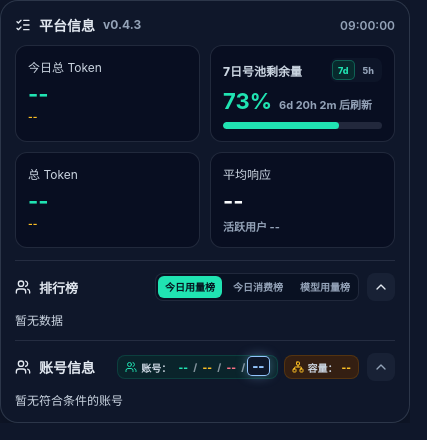
Test: App settings sync › shows the 7d pool by default and switches to the 5h pool
Expected: the tab "7d" is shown, 332,60 -> 355,80
Click the tab "5h". click: (368,70)
box: 357,60 -> 380,80
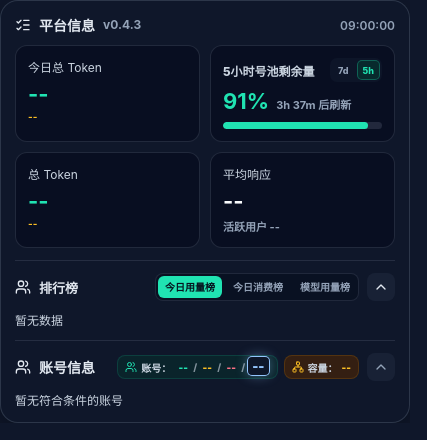
Now the text "5小时号池剩余量" is shown, box 223,62 -> 315,78
Now the text "91%" is shown, box 223,88 -> 269,114
